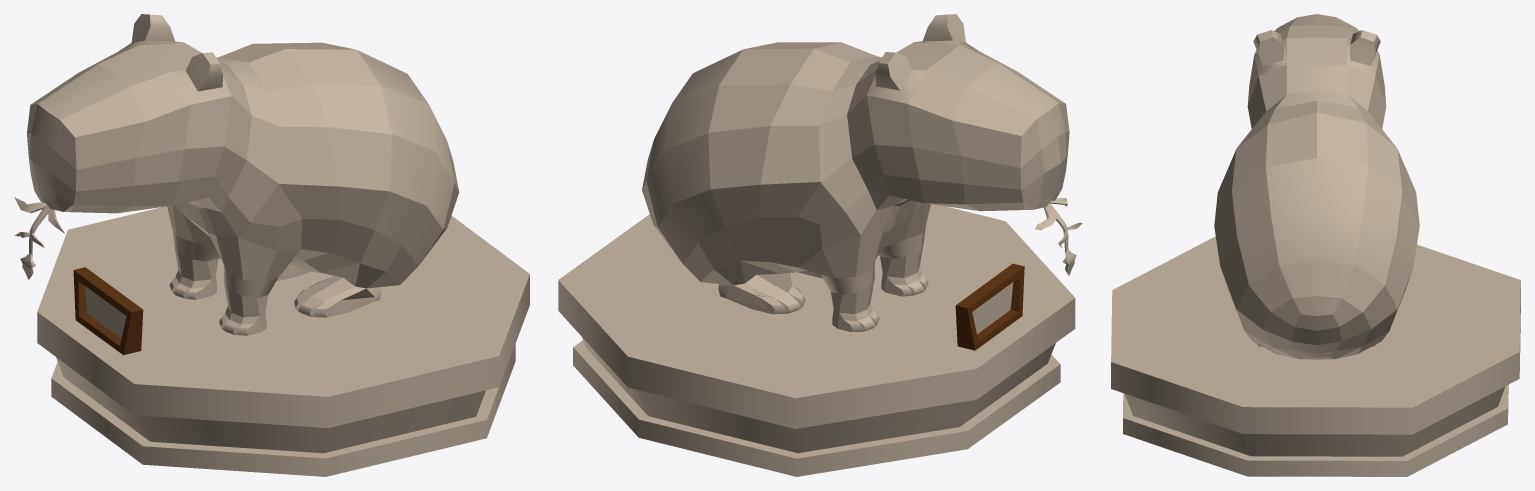
The model's file is Estatua.fbx.
The picture shows the model from 3 angles, left to right: view 1: azimuth 30°, elevation 25°; view 2: azimuth 150°, elevation 25°; view 3: azimuth 270°, elevation 25°; orthographic projection. The views are drawn at different scales.
Parts seen in each view (by area): view 1: Estatua_carpincho, Estatua_base, Estatua_cartel, Palustre; view 2: Estatua_carpincho, Estatua_base, Estatua_cartel, Palustre; view 3: Estatua_base, Estatua_carpincho.
Boxes of the visible parts, x1,y1,x2,y2 form: Estatua_carpincho: (27, 14, 459, 335); Estatua_base: (37, 206, 529, 476); Estatua_cartel: (73, 267, 143, 355); Palustre: (14, 197, 64, 279); Estatua_carpincho: (642, 14, 1069, 331); Estatua_base: (558, 204, 1075, 476); Estatua_cartel: (955, 263, 1024, 350); Palustre: (1035, 198, 1082, 275); Estatua_base: (1111, 236, 1520, 476); Estatua_carpincho: (1214, 14, 1419, 359).
Size of the model in its own units: 7.84 by 5.98 by 6.94.
